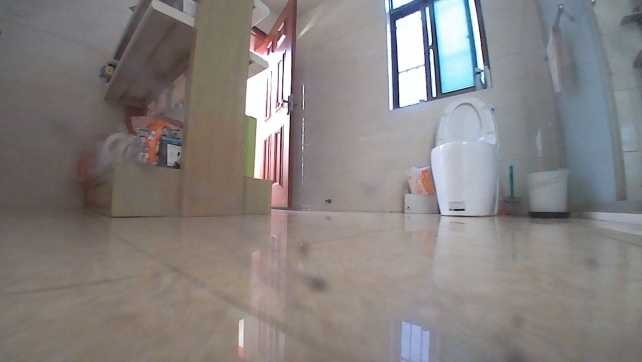toilet: (424, 92, 500, 215)
trash_can: (523, 163, 571, 215)
